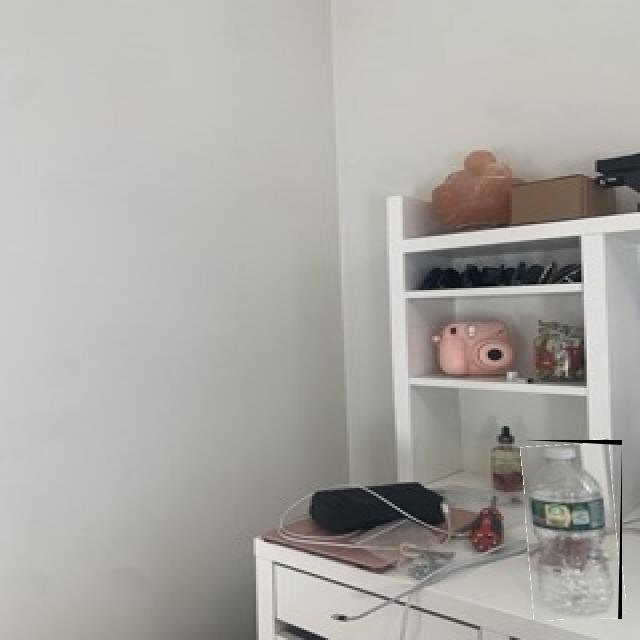water_bottle: (525, 440, 622, 619)
